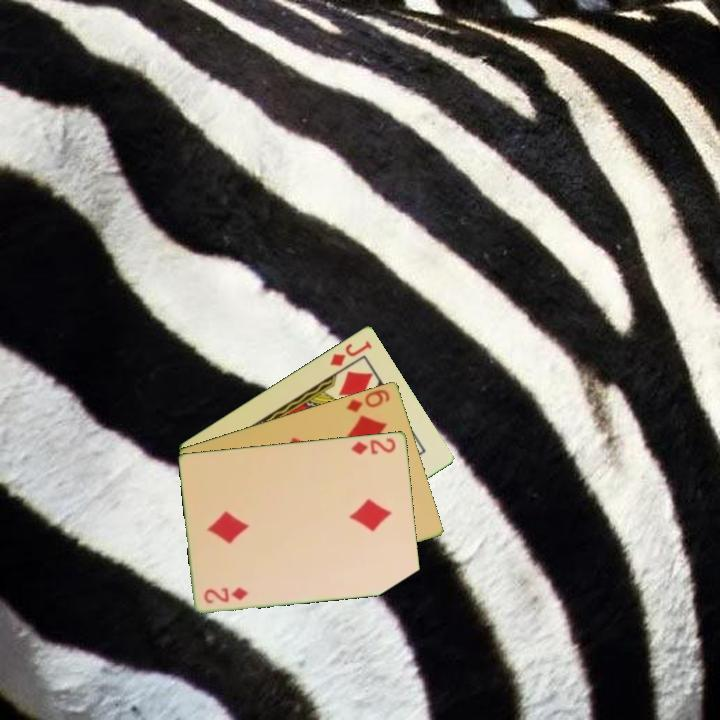2d: (348, 434, 399, 457), (200, 583, 251, 606)
6d: (343, 385, 393, 415)
Jd: (326, 337, 375, 369)
